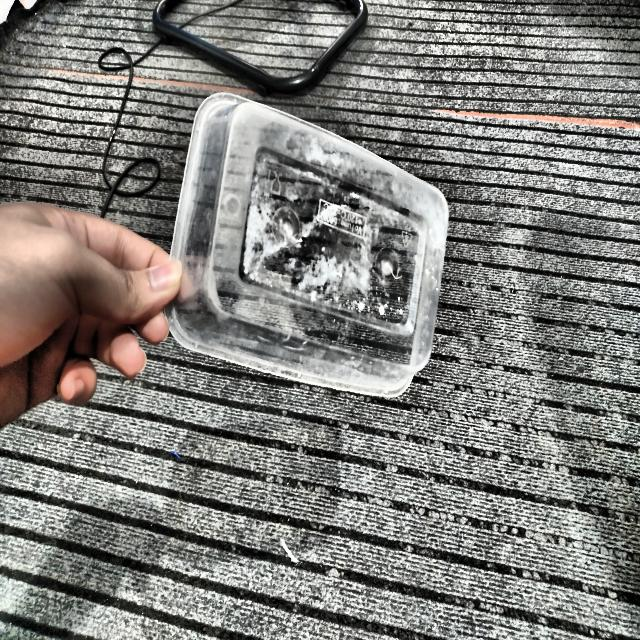plastic container: (168, 93, 449, 397)
